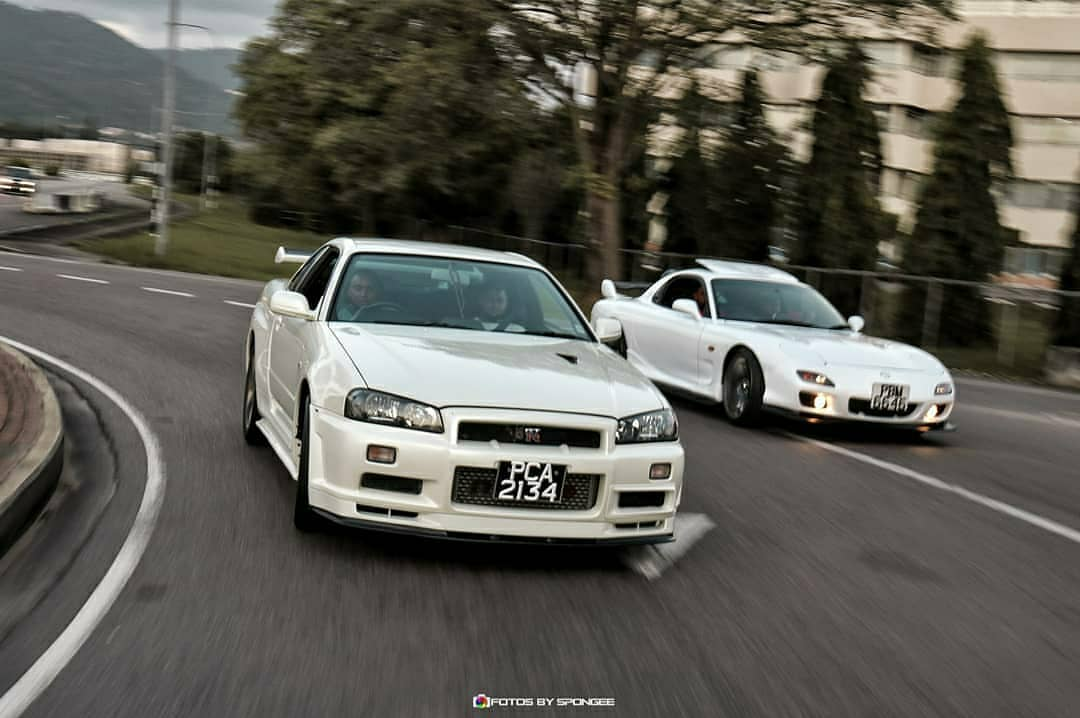License-Plate: (499, 458, 563, 499), (871, 382, 909, 409)
